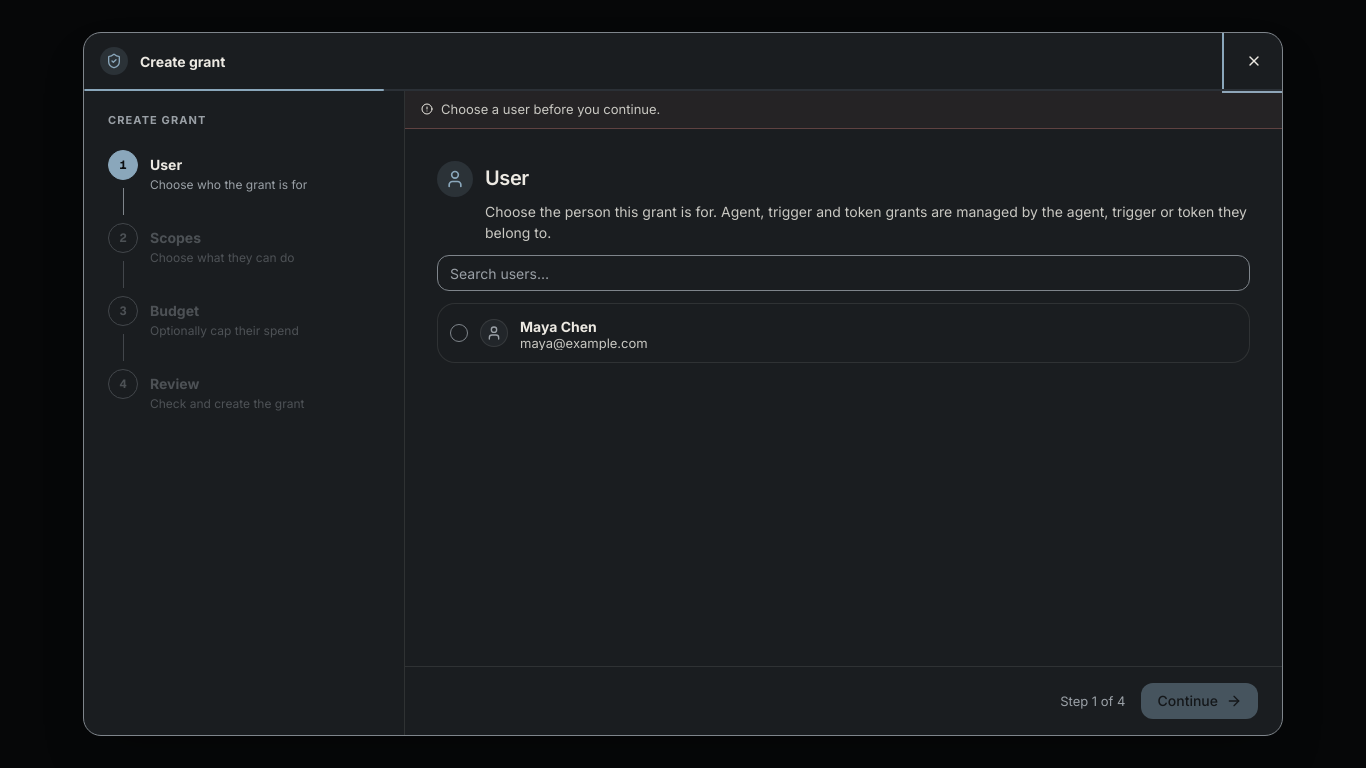
Test: CreateGrantWizard › offers no principal type and holds Continue until a user is chosen
This screenshot has width=1366, height=768.
Expected: the text "Choose a user before you continue." is shown, [441,103,660,116]
Expected: the button "Continue" is disabled, [1142,683,1258,719]
Click the radio button named "Maya Chen": (459, 333) [450,324,468,342]
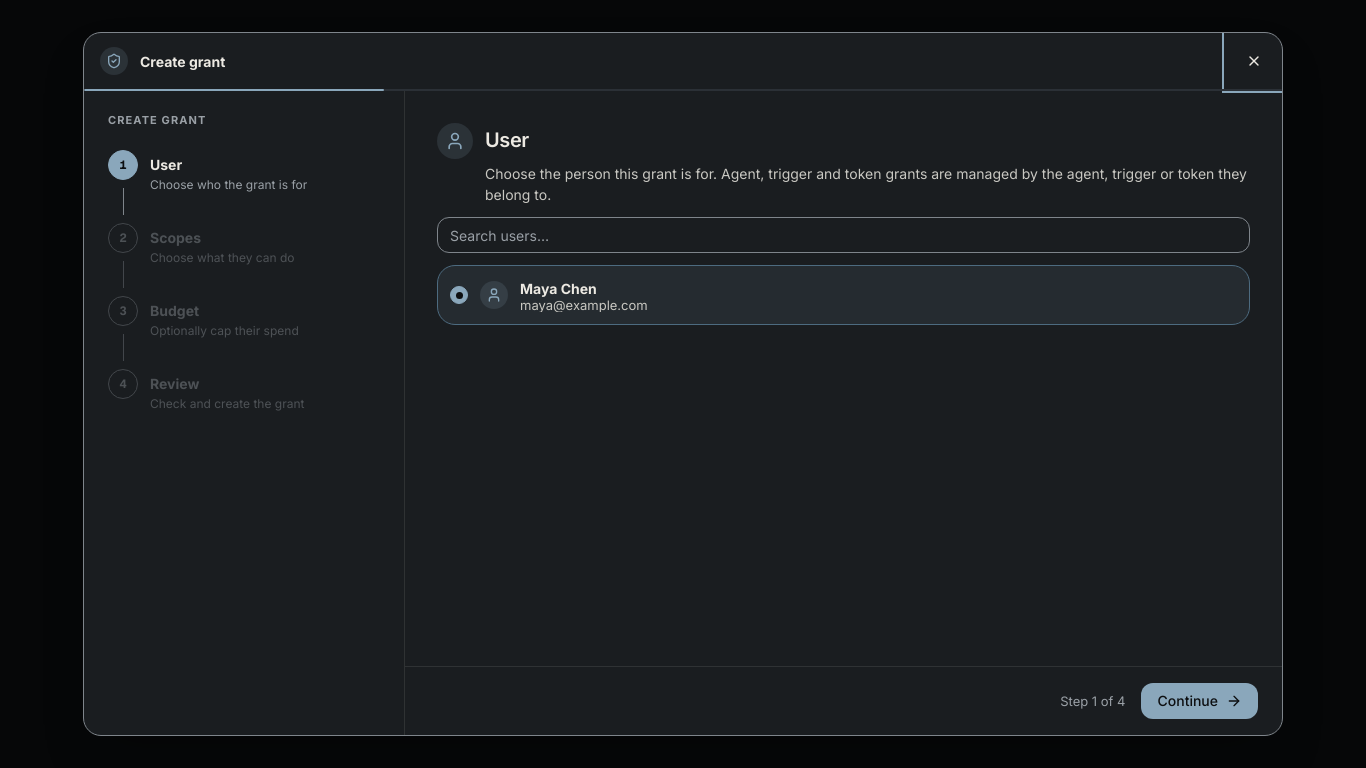
Expected: the button "Continue" is enabled, [1142,683,1258,719]
